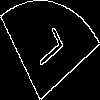L: (25, 25, 65, 75)
